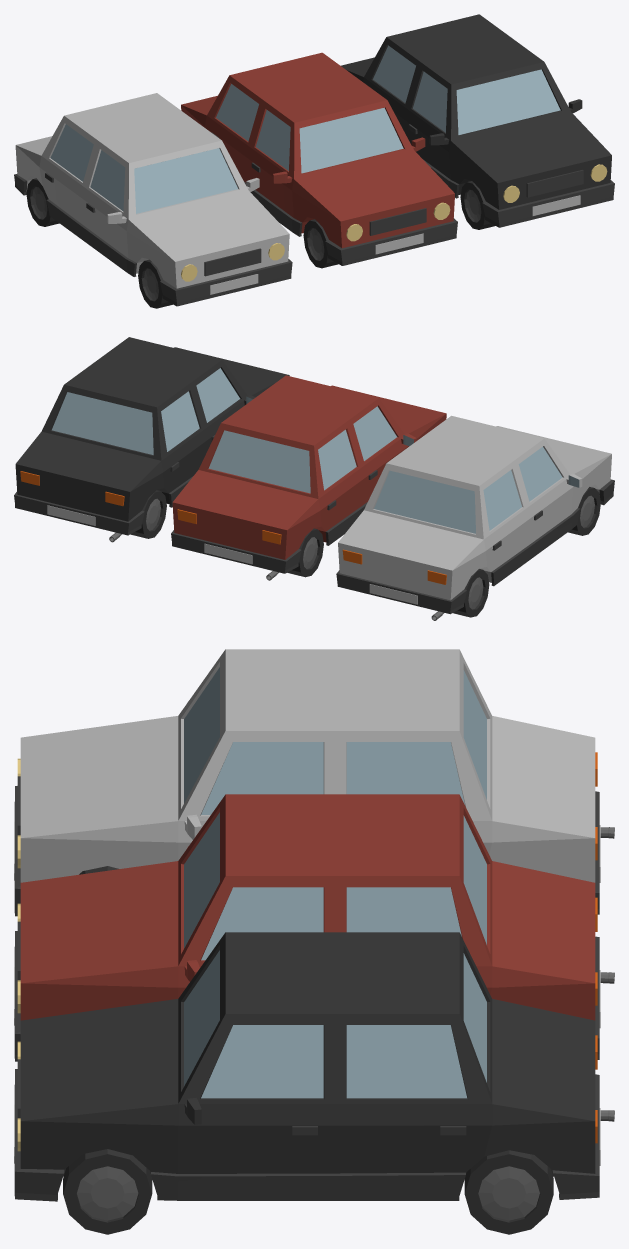
File: car_2.fbx
3 views of the same model, one above another, from view 1: azimuth 30°, elevation 25°; view 2: azimuth 150°, elevation 25°; view 3: azimuth 270°, elevation 25° (orthographic). The views are drawn at different scales.
Parts seen in each view (by area): view 1: 2.0, 2.1, 2.2; view 2: 2.0, 2.1, 2.2; view 3: 2.2, 2.0, 2.1.
Part boxes in pixels (x1,y1,x2,y2): 2.0: (14, 93, 292, 308); 2.1: (181, 52, 457, 268); 2.2: (341, 14, 614, 229); 2.0: (336, 415, 614, 620); 2.1: (171, 375, 446, 580); 2.2: (14, 337, 289, 542); 2.2: (14, 932, 614, 1234); 2.0: (14, 649, 614, 916); 2.1: (14, 794, 614, 1061).
Size of the model in its own units: 614 by 145 by 375.
1 material, 1 textured.
